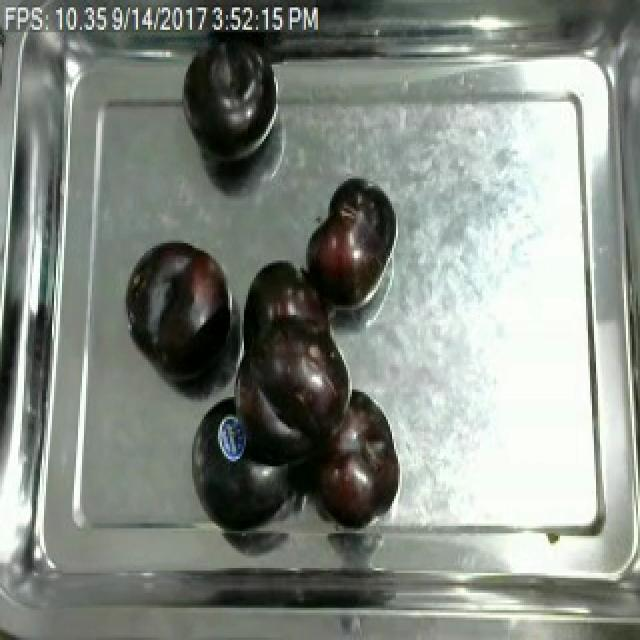Fruit: (126, 236, 234, 367), (308, 392, 406, 531), (298, 174, 396, 312)
